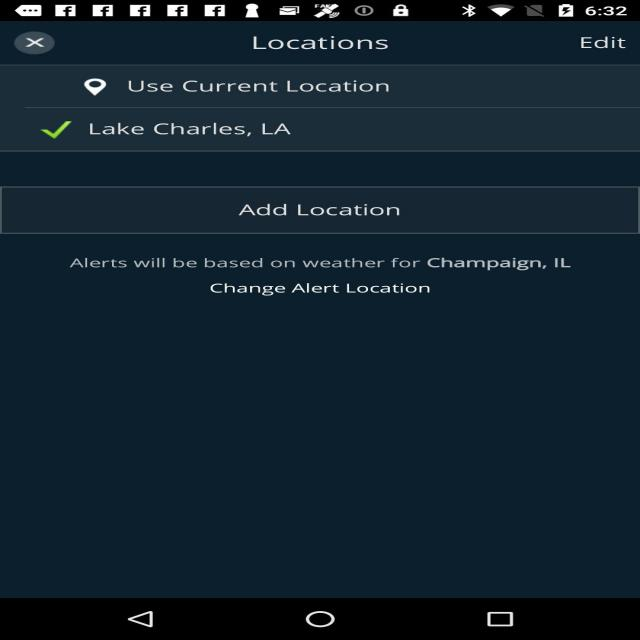button: (4, 188, 640, 231), (185, 277, 448, 303), (12, 30, 88, 64), (555, 31, 627, 58)
icon: (7, 33, 65, 55), (38, 117, 88, 140), (72, 72, 112, 94)
text: (49, 256, 584, 274), (130, 78, 402, 99), (201, 280, 440, 301), (225, 197, 418, 222), (90, 118, 308, 139), (236, 32, 397, 54), (570, 30, 616, 53)
